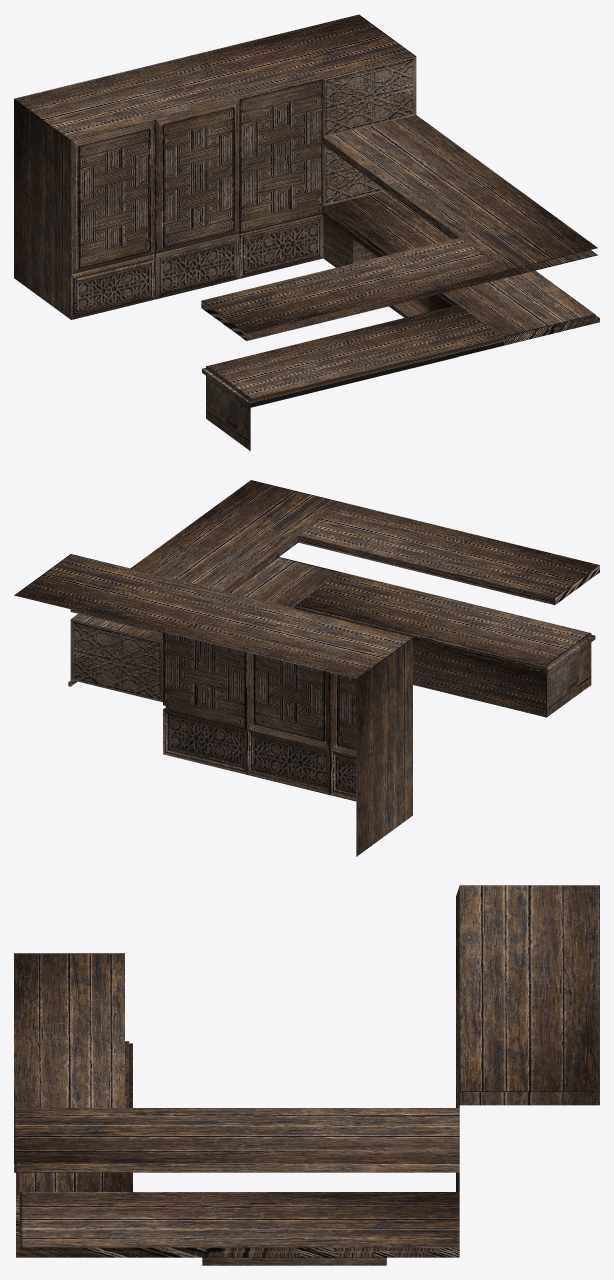
The picture shows the model from 3 angles, top to bottom: view 1: azimuth 30°, elevation 25°; view 2: azimuth 150°, elevation 25°; view 3: azimuth 270°, elevation 25°; orthographic projection. The views are drawn at different scales.
Visible parts, largest first — view 1: Box035; view 2: Box035; view 3: Box035.
Part boxes in pixels (x1,y1,x2,y2): Box035: [14, 14, 599, 450]; Box035: [14, 480, 599, 856]; Box035: [14, 885, 599, 1265].
Size of the model in its own units: 274 by 133 by 320.
